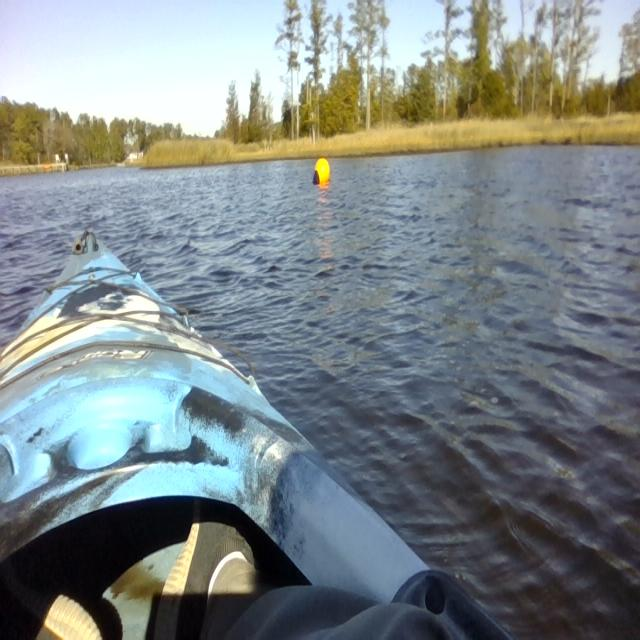Buoy: (309, 155, 334, 189)
